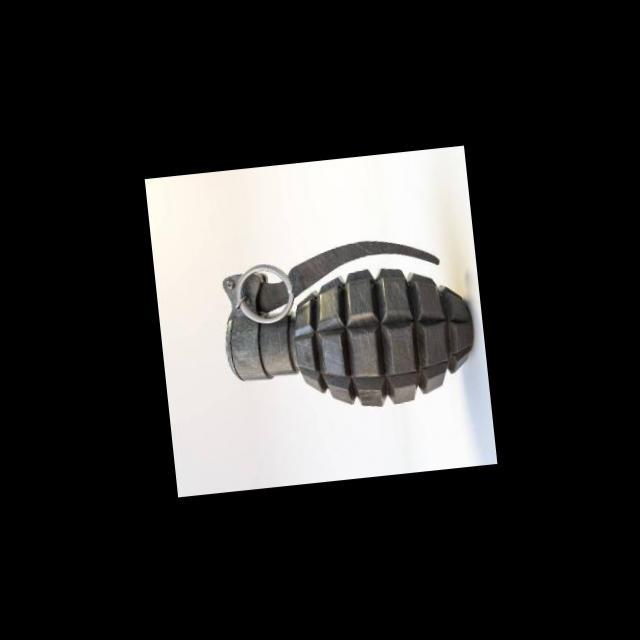grenade: (206, 222, 483, 427)
